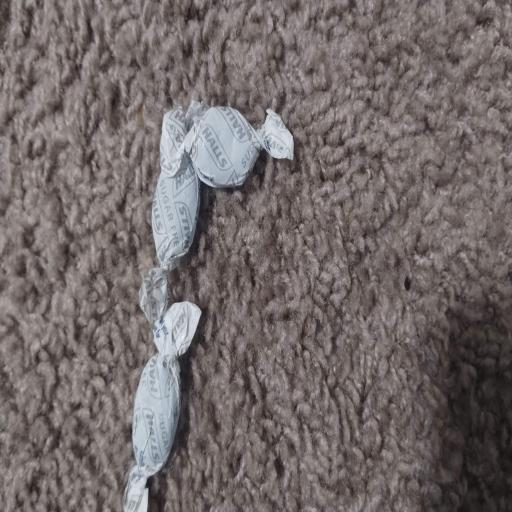chocolate: (124, 302, 200, 511), (184, 107, 293, 187), (152, 156, 200, 270)
